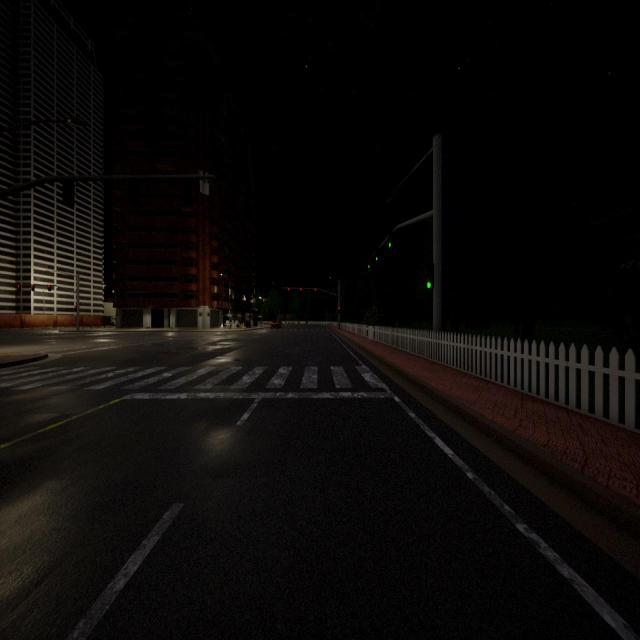Vehicle: (102, 316, 116, 326), (270, 319, 282, 329)
traffic_light: (62, 180, 75, 207), (128, 178, 140, 207), (184, 180, 192, 208), (426, 262, 434, 289), (31, 284, 35, 292), (17, 284, 20, 292), (376, 252, 378, 262), (389, 238, 391, 248), (48, 285, 51, 291), (74, 306, 77, 312), (368, 261, 370, 269), (338, 306, 340, 313), (314, 288, 317, 292), (288, 288, 290, 292), (300, 288, 302, 292)
